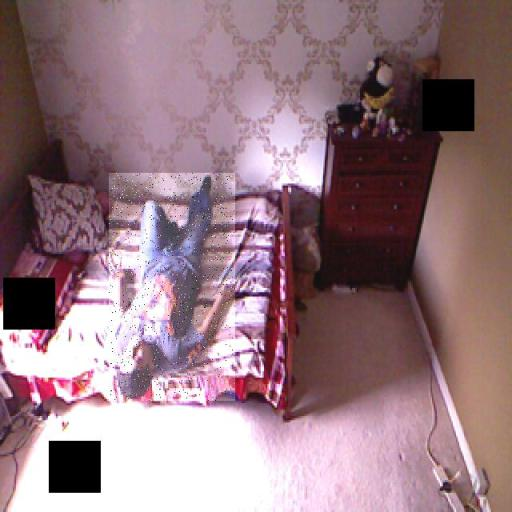Fall: (109, 173, 235, 401)
